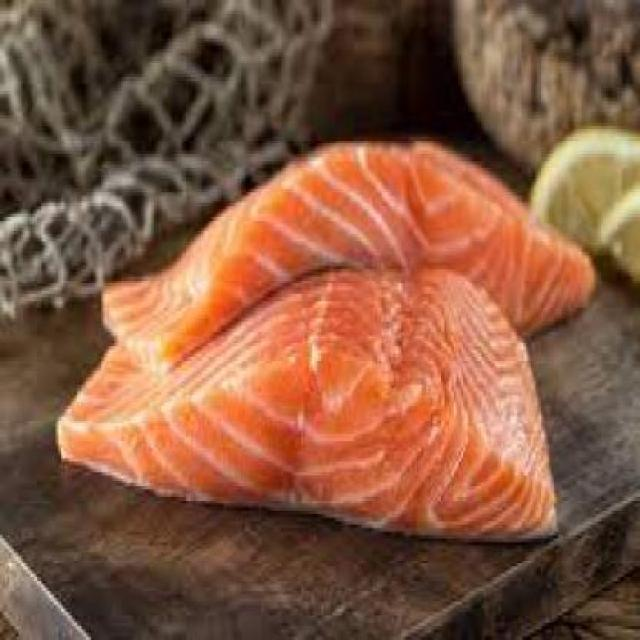salmon: (49, 260, 566, 557), (100, 112, 640, 357)
